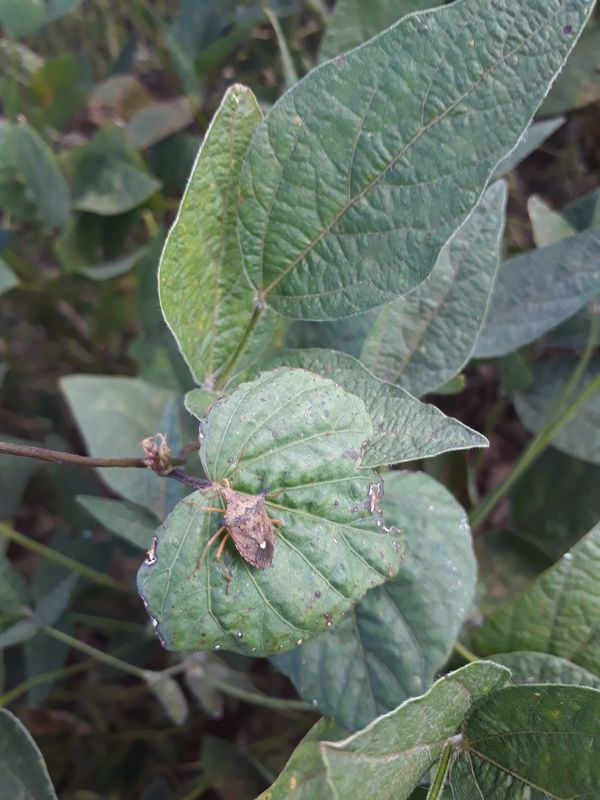Euschistus_heros_adulto: (181, 463, 299, 590)
